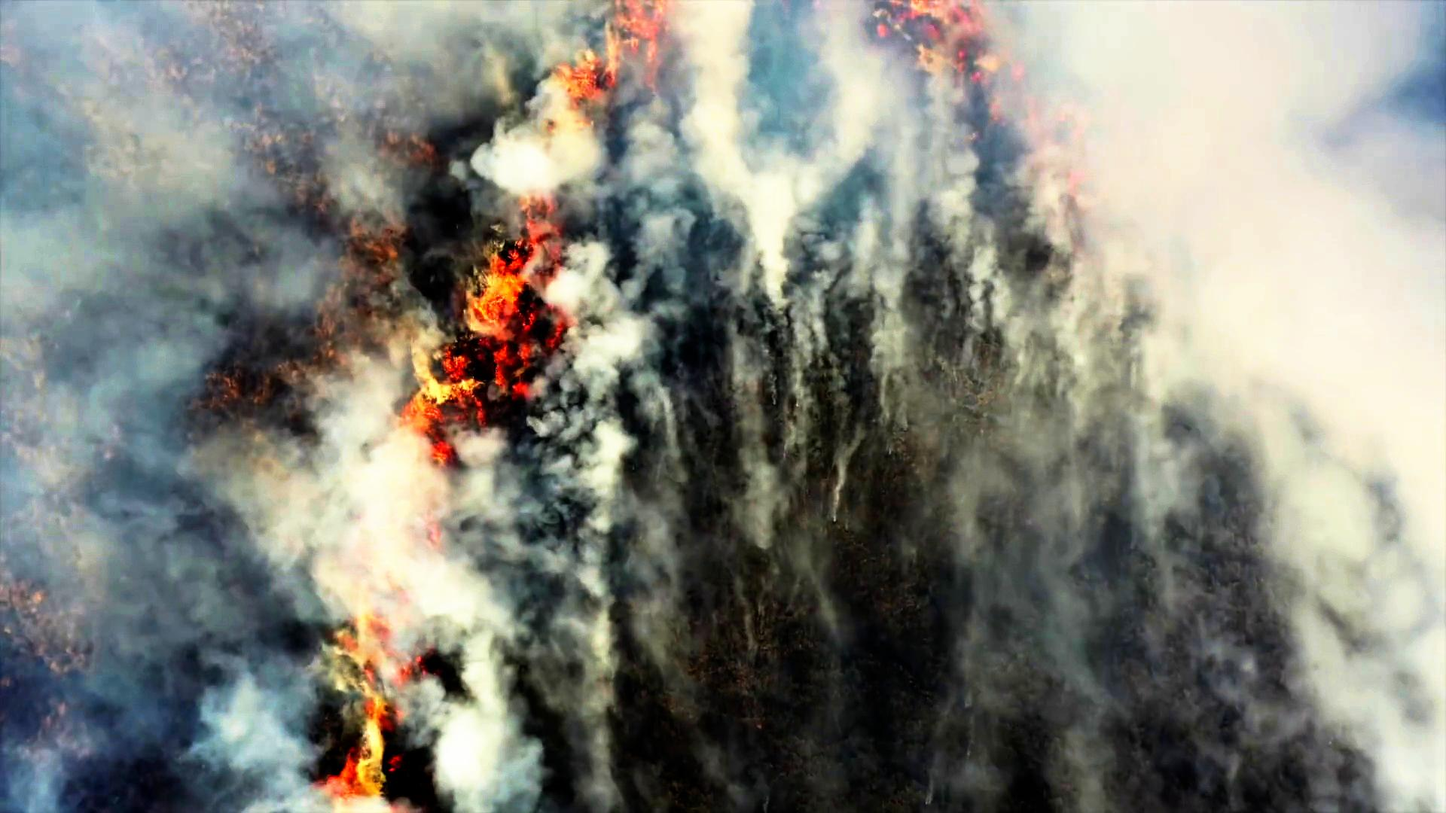fire: (337, 536, 392, 791), (546, 0, 674, 108), (454, 236, 539, 354), (400, 359, 477, 454)
smoke: (1102, 17, 1445, 311), (1322, 128, 1446, 813), (0, 0, 232, 333), (433, 589, 551, 813)
